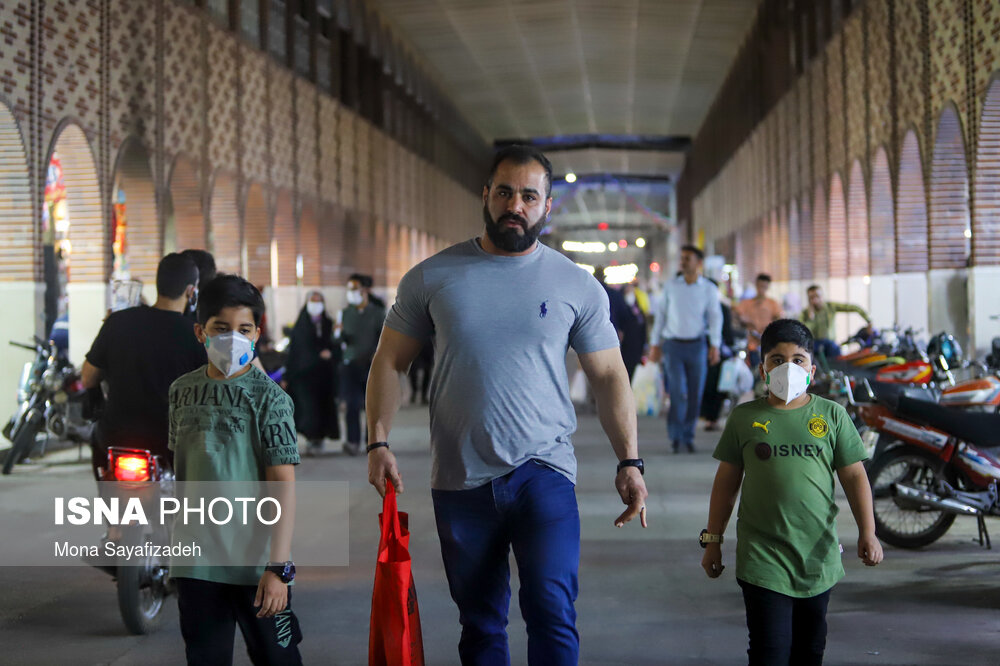with_mask: (205, 309, 255, 373), (765, 342, 811, 399)
without_mask: (491, 170, 547, 250)
